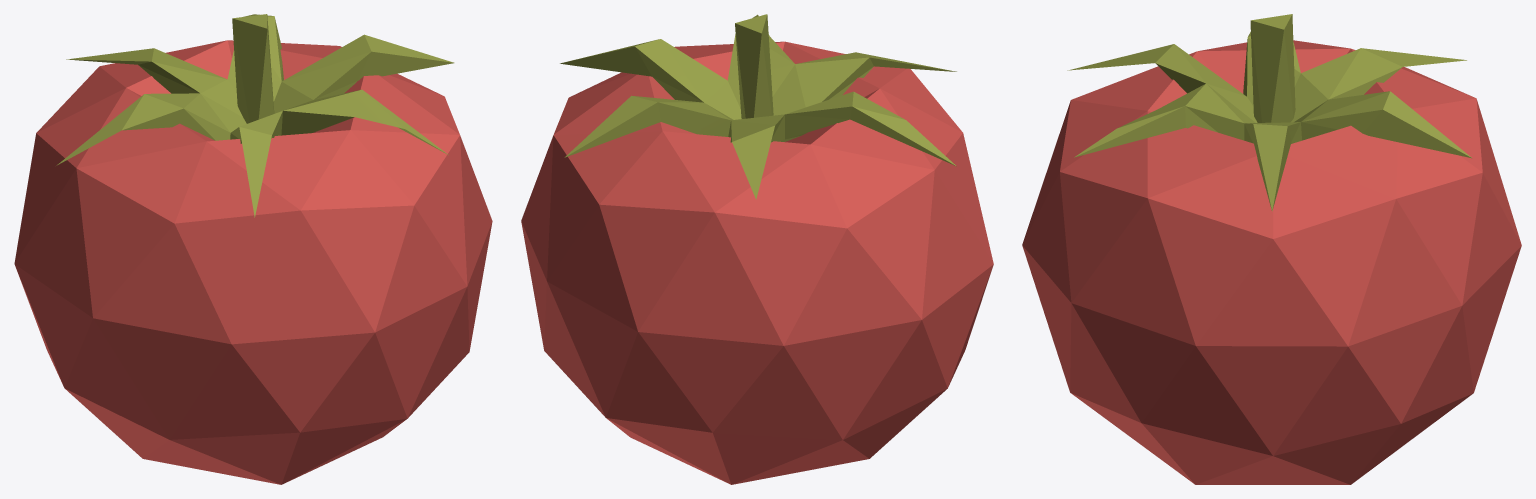
File: Tomato_01.fbx
The picture shows the model from 3 angles, left to right: view 1: azimuth 30°, elevation 25°; view 2: azimuth 150°, elevation 25°; view 3: azimuth 270°, elevation 25°; orthographic projection. The views are drawn at different scales.
Parts seen in each view (by area): view 1: Tomato_01; view 2: Tomato_01; view 3: Tomato_01.
Boxes of the visible parts, box(x1,y1,x2,y2) form: Tomato_01: box(14, 14, 492, 484); Tomato_01: box(521, 14, 993, 484); Tomato_01: box(1022, 14, 1521, 484).
Bounding box in the file's own units: 11.3 × 11.88 × 11.84.
